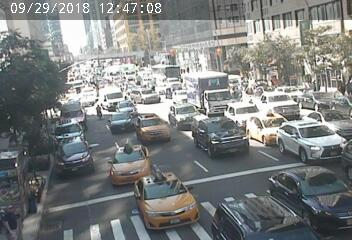car: (146, 178, 198, 217), (286, 171, 335, 205), (229, 200, 284, 227), (287, 119, 327, 154), (188, 74, 226, 106), (265, 93, 298, 117), (123, 145, 149, 174), (62, 148, 88, 173), (250, 116, 279, 138), (198, 125, 230, 143), (108, 89, 130, 109), (171, 107, 195, 124), (58, 126, 82, 140), (308, 91, 327, 108), (137, 119, 156, 134), (224, 100, 246, 112), (176, 89, 193, 104), (156, 63, 176, 74), (108, 115, 126, 127), (316, 111, 335, 122), (66, 105, 83, 117), (138, 91, 154, 98), (122, 106, 134, 115)
